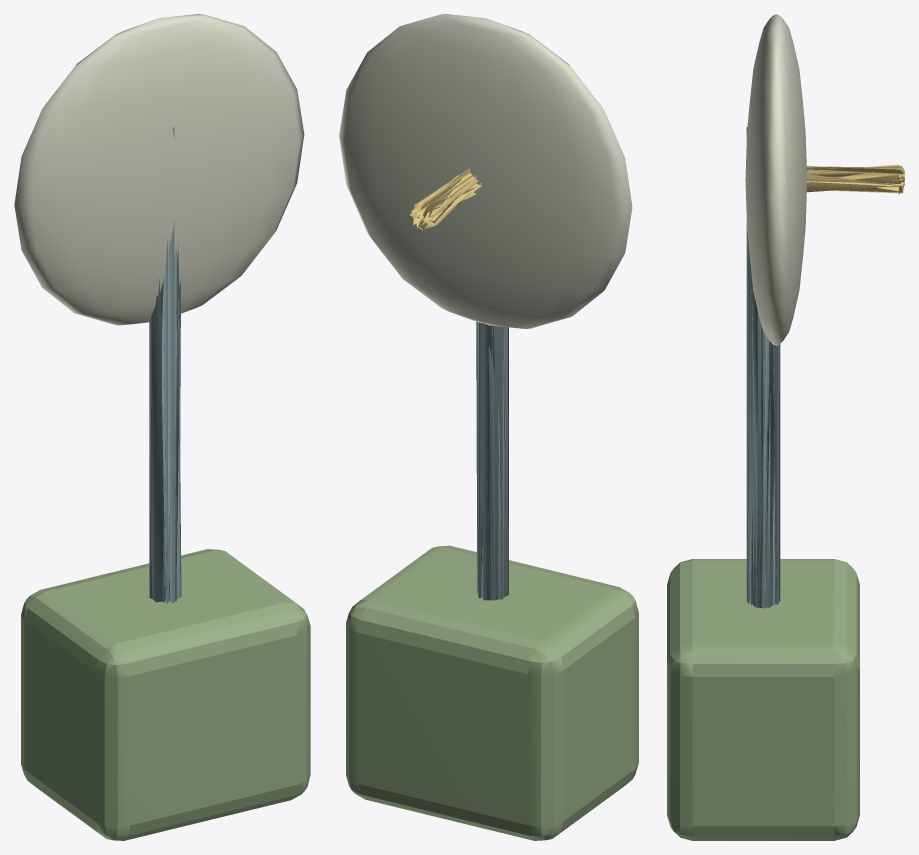
File: signal_dish.glb
3 renders of one model, left to right at view 1: azimuth 30°, elevation 25°; view 2: azimuth 150°, elevation 25°; view 3: azimuth 270°, elevation 25°, orthographic.
Parts seen in each view (by area): view 1: Surface_WorldOlive, Surface_WorldIvory, Surface_WorldMetal; view 2: Surface_WorldOlive, Surface_WorldIvory, Surface_WorldMetal, Surface_WorldBrass; view 3: Surface_WorldOlive, Surface_WorldIvory, Surface_WorldMetal, Surface_WorldBrass.
Part boxes in pixels (bbox=[...]): Surface_WorldOlive: bbox=[21, 549, 310, 840]; Surface_WorldIvory: bbox=[14, 14, 304, 325]; Surface_WorldMetal: bbox=[149, 127, 181, 603]; Surface_WorldOlive: bbox=[346, 545, 638, 840]; Surface_WorldIvory: bbox=[339, 14, 632, 328]; Surface_WorldMetal: bbox=[476, 321, 508, 600]; Surface_WorldBrass: bbox=[410, 169, 481, 230]; Surface_WorldOlive: bbox=[667, 559, 859, 840]; Surface_WorldIvory: bbox=[745, 14, 806, 345]; Surface_WorldMetal: bbox=[746, 127, 780, 608]; Surface_WorldBrass: bbox=[806, 164, 904, 194].
Bounding box in the file's own units: 1.3 × 3.3 × 0.925.
